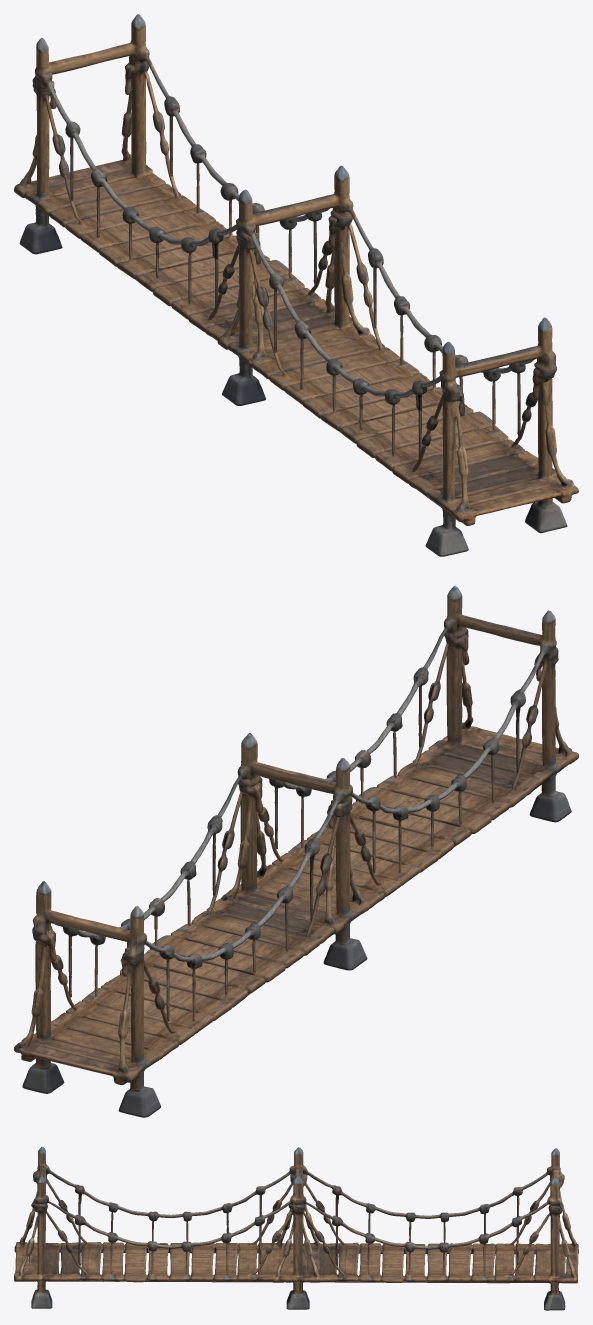
The model's file is Hanging_Bridges.fbx.
3 views of the same model, one above another, from view 1: azimuth 30°, elevation 25°; view 2: azimuth 150°, elevation 25°; view 3: azimuth 270°, elevation 25° (orthographic). The views are drawn at different scales.
Parts seen in each view (by area): view 1: B_Type.001, B_Type.002; view 2: B_Type.002, B_Type.001; view 3: B_Type.002, B_Type.001.
Boxes of the visible parts, left/top/right/bottom form: B_Type.001: left=217, top=166, right=578, bottom=556; B_Type.002: left=14, top=14, right=374, bottom=395; B_Type.002: left=14, top=734, right=371, bottom=1117; B_Type.001: left=221, top=585, right=578, bottom=968; B_Type.002: left=272, top=1147, right=578, bottom=1310; B_Type.001: left=14, top=1146, right=320, bottom=1309.
Size of the model in its own units: 62.59 by 93.19 by 368.
Materials: 2 (2 with a texture image).
